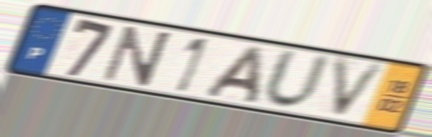1: (174, 36, 212, 94)
7: (64, 16, 116, 79)
A: (200, 43, 265, 107)
N: (99, 23, 176, 88)
U: (260, 46, 335, 112)
V: (327, 54, 392, 123)
